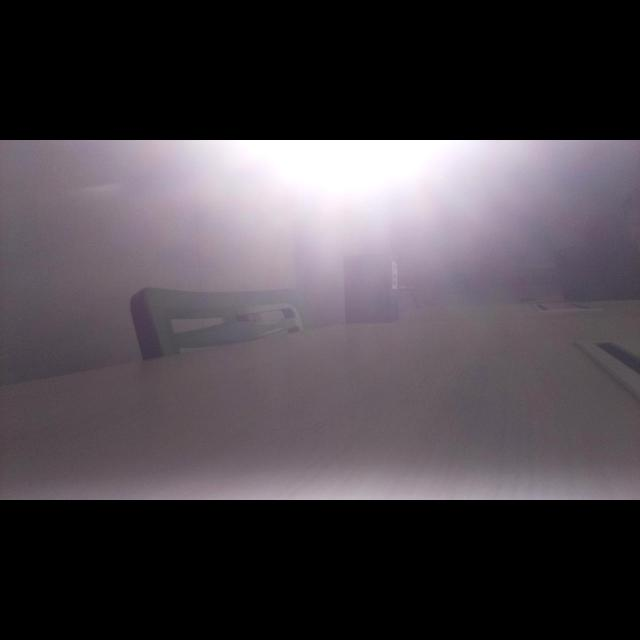G: (393, 264, 396, 285)
